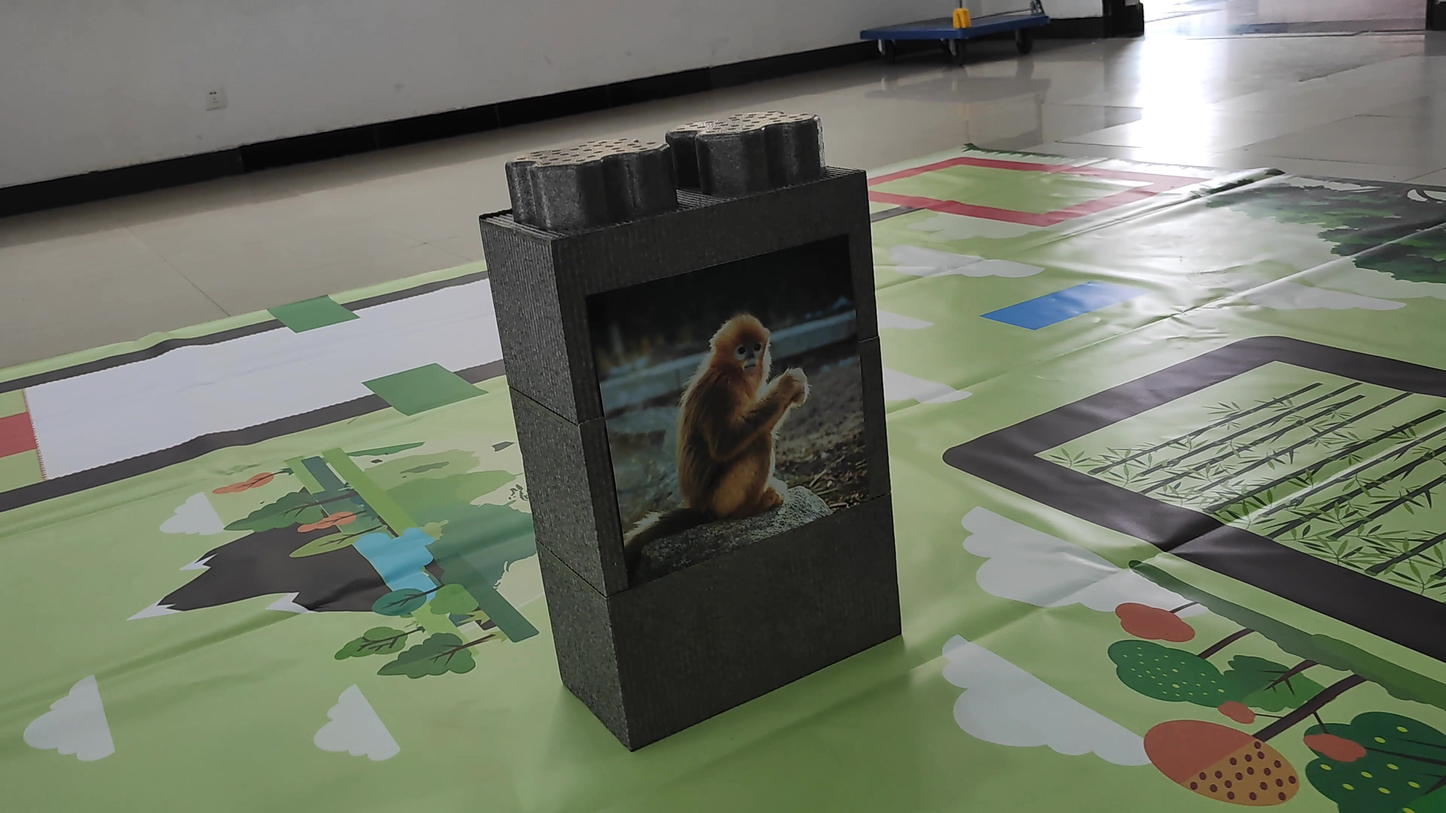monkey: (592, 302, 840, 568)
